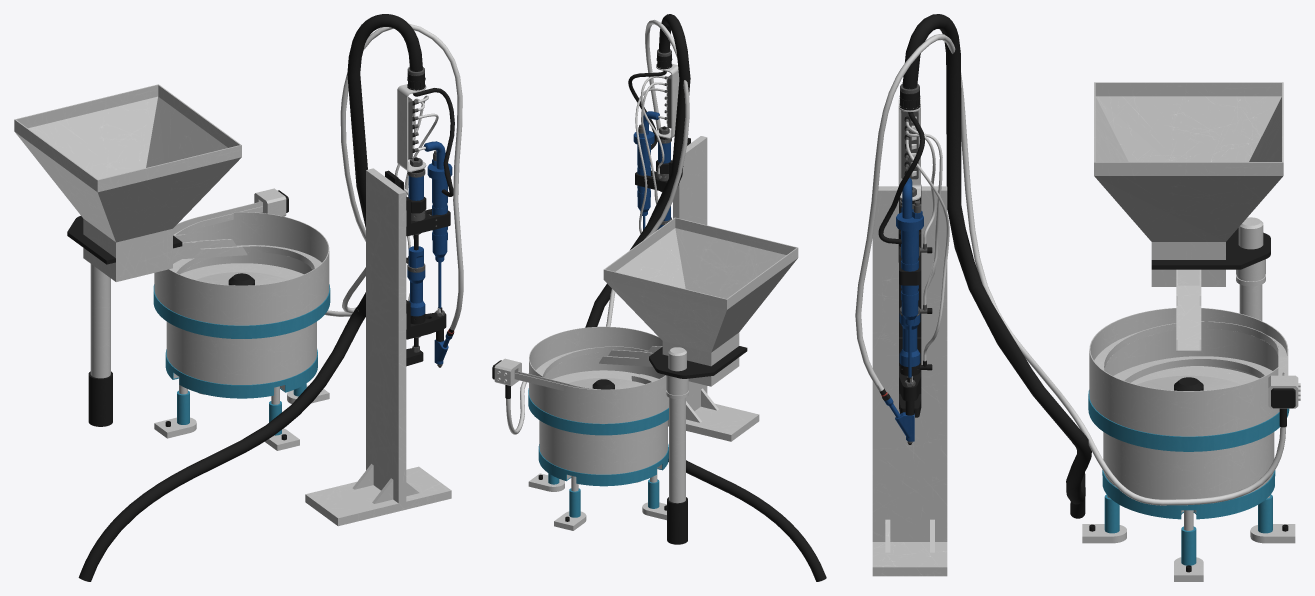
File: Tightener_Station.glb
3 views of the same model, side by side, from view 1: azimuth 30°, elevation 25°; view 2: azimuth 150°, elevation 25°; view 3: azimuth 270°, elevation 25° (orthographic). The views are drawn at different scales.
Parts seen in each view (by area): view 1: color[25], color-2[33].001, color[20], color-3[32], color[5], color-3[16], color.003, color[29], color-2[35].001, color[6], color[21], color[30] (+6 smaller); view 2: color[25], color[20], color-3[32], color[5], color-2[33].001, color-3[16], color[29], color.003, color[6], color[21], color[26], color-2[35].001 (+5 smaller); view 3: color[25], color-2[33].001, color[20], color-3[32], color[5], color-3[16], color[21], color.003, color-2[35].001, color[6], color[26], color-2[8].001 (+13 smaller).
Boxes of the visible parts, box(x1,y1,x2,y2) form: color[25]: box(14, 84, 247, 281); color-2[33].001: box(305, 168, 451, 526); color[20]: box(154, 212, 329, 325); color-3[32]: box(78, 14, 422, 581); color[5]: box(166, 321, 316, 390); color-3[16]: box(325, 23, 463, 330); color.003: box(153, 284, 330, 338); color[29]: box(90, 264, 110, 378); color-2[35].001: box(423, 141, 452, 364); color[6]: box(165, 349, 317, 398); color[21]: box(170, 202, 321, 274); color[30]: box(88, 371, 112, 426); color[25]: box(599, 217, 798, 386); color[20]: box(529, 326, 668, 423); color-3[32]: box(585, 14, 826, 581); color[5]: box(539, 420, 667, 479); color-2[33].001: box(668, 136, 759, 441); color-3[16]: box(506, 19, 689, 434); color[29]: box(669, 397, 685, 503); color.003: box(528, 388, 668, 435); color[6]: box(538, 444, 668, 486); color[21]: box(514, 346, 658, 390); color[26]: box(649, 346, 747, 378); color-2[35].001: box(633, 111, 659, 230); color[25]: box(1094, 82, 1283, 351); color-2[33].001: box(872, 186, 947, 576); color[20]: box(1089, 308, 1288, 436); color-3[32]: box(902, 14, 1091, 518); color[5]: box(1103, 432, 1274, 513); color-3[16]: box(855, 34, 1286, 505); color[21]: box(1094, 321, 1288, 382); color.003: box(1088, 390, 1289, 451); color-2[35].001: box(884, 178, 923, 441); color[6]: box(1102, 470, 1275, 519); color[26]: box(1151, 228, 1270, 269); color-2[8].001: box(878, 112, 924, 243).
Bounding box in the file's own units: 0.8693 × 1.4 × 0.8957.
Materials: 7 (7 with a texture image).
